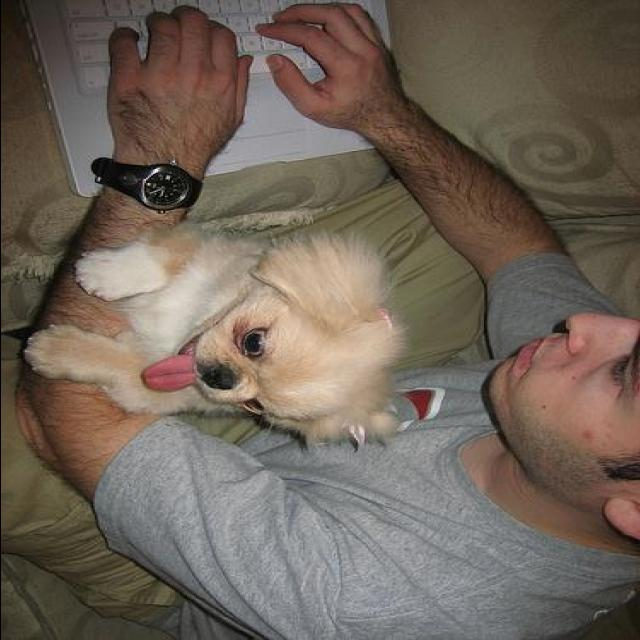pekinese: (24, 228, 408, 450)
